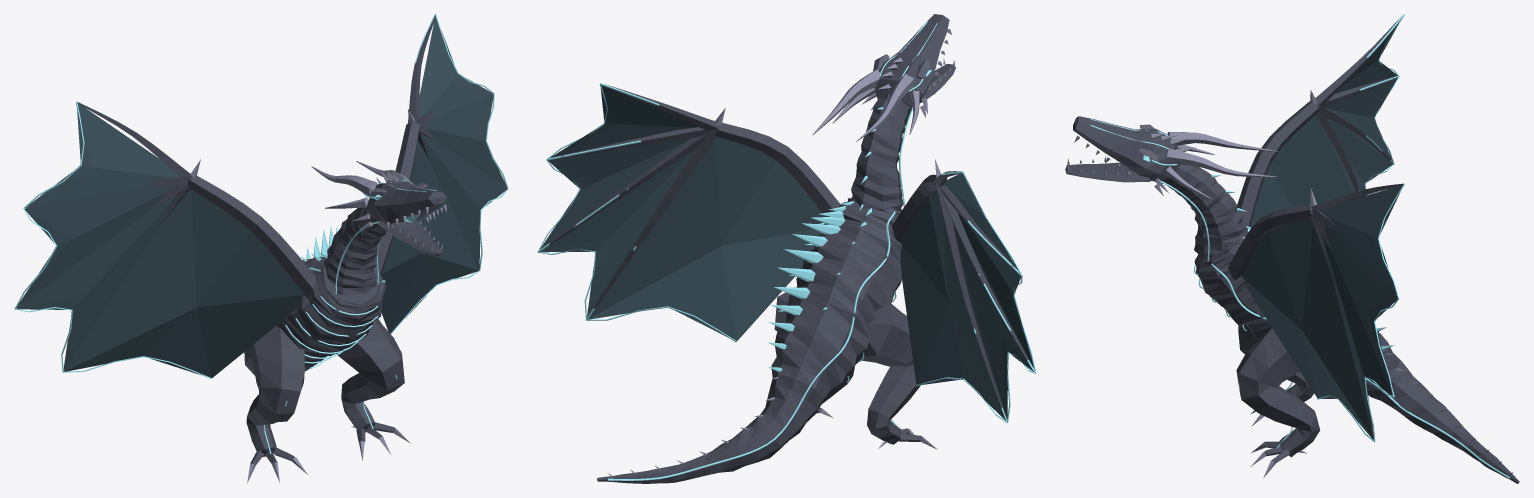
The model's file is Wyvern.obj.
3 views of the same model, side by side, from view 1: azimuth 30°, elevation 25°; view 2: azimuth 150°, elevation 25°; view 3: azimuth 270°, elevation 25° (orthographic). The views are drawn at different scales.
Parts seen in each view (by area): view 1: Wyvern_Membrana, Wyvern_Cuerpo, Wyvern_Brillo, Wyvern_Hueso; view 2: Wyvern_Membrana, Wyvern_Cuerpo, Wyvern_Brillo, Wyvern_Hueso, Wyvern_Cristal; view 3: Wyvern_Membrana, Wyvern_Cuerpo, Wyvern_Hueso, Wyvern_Brillo.
Part boxes in pixels (<box>): Wyvern_Membrana: <box>16,17,506,377</box>; Wyvern_Cuerpo: <box>16,15,507,465</box>; Wyvern_Brillo: <box>14,14,508,453</box>; Wyvern_Hueso: <box>190,109,446,482</box>; Wyvern_Membrana: <box>540,85,1033,420</box>; Wyvern_Cuerpo: <box>545,14,1033,483</box>; Wyvern_Brillo: <box>537,22,1036,480</box>; Wyvern_Hueso: <box>607,29,955,476</box>; Wyvern_Cristal: <box>768,89,888,371</box>; Wyvern_Membrana: <box>1241,24,1402,439</box>; Wyvern_Cuerpo: <box>1065,16,1519,483</box>; Wyvern_Hueso: <box>1067,90,1512,478</box>; Wyvern_Brillo: <box>1090,14,1515,478</box>.
Bounding box in the file's own units: 5.58 × 3.82 × 4.59.
